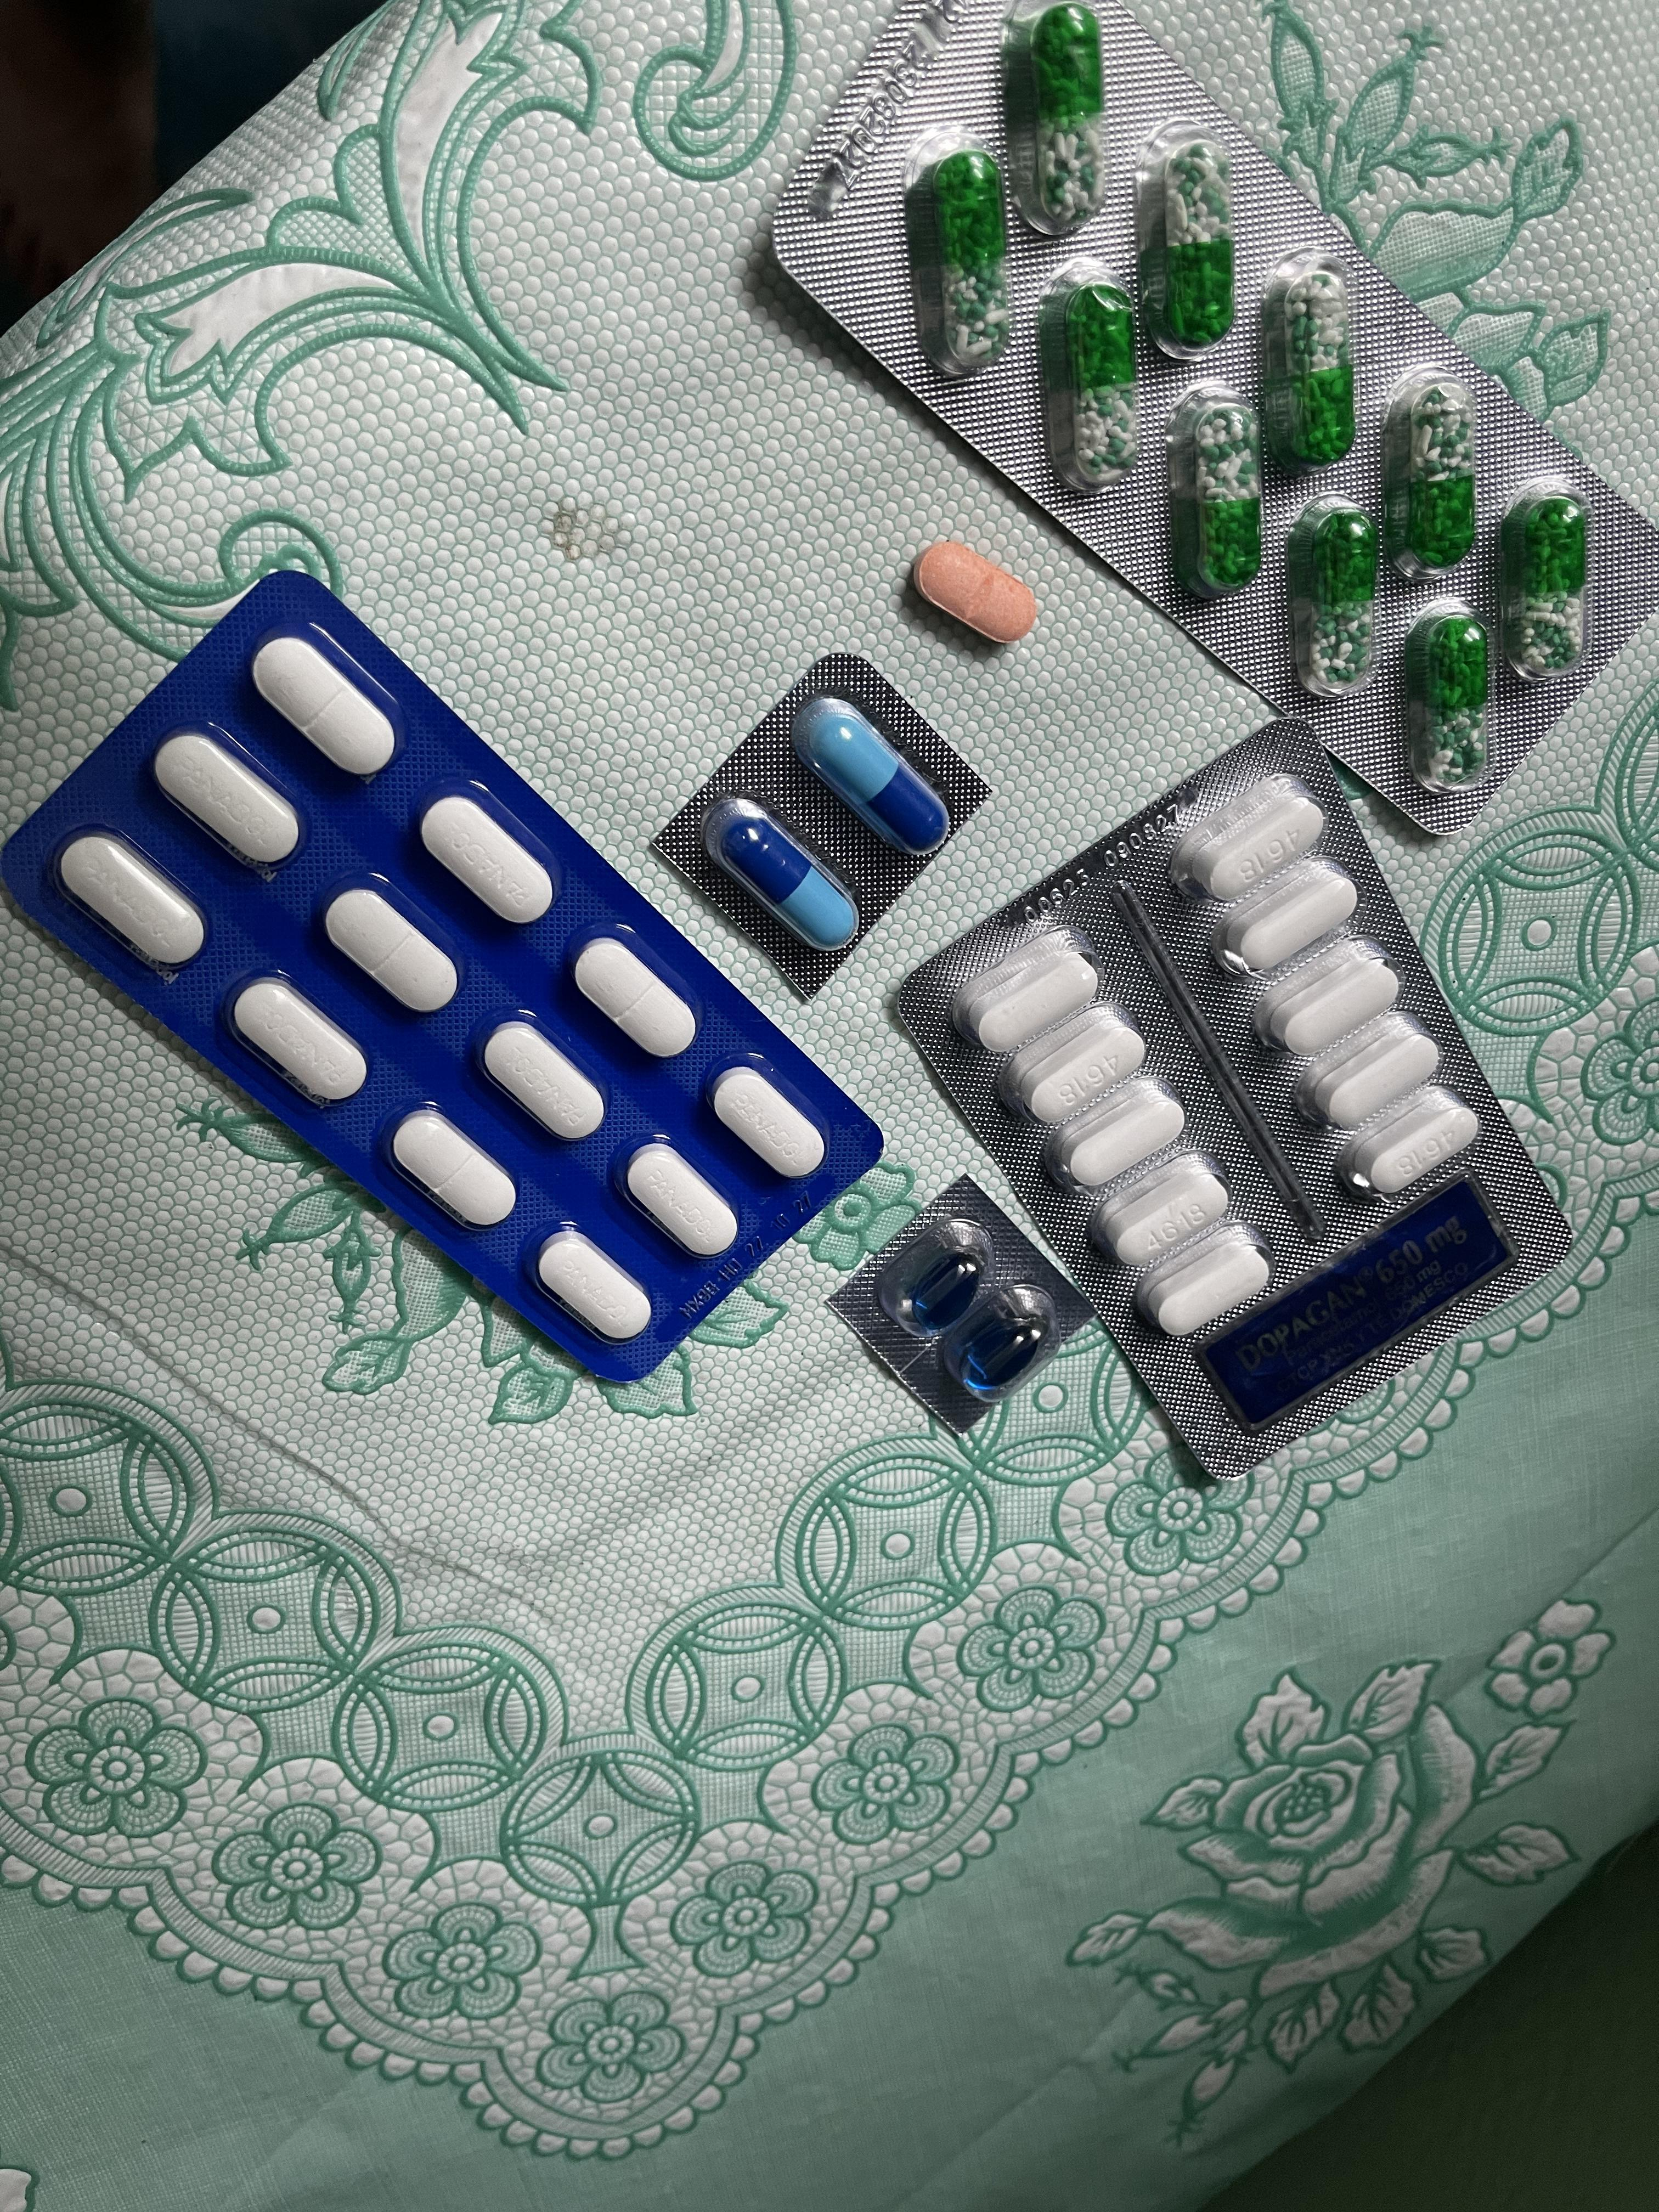Lincomyxin_500mg: (958, 1310, 1044, 1395), (904, 1249, 986, 1331)
Loratadine_10mg: (915, 542, 1037, 644)
Paracetamol_350mg: (56, 831, 207, 975), (254, 634, 401, 779), (153, 730, 303, 871), (227, 977, 369, 1111), (420, 791, 559, 925), (322, 883, 460, 1014), (565, 930, 697, 1057), (479, 1019, 610, 1143), (387, 1108, 516, 1230), (708, 1062, 831, 1184), (622, 1139, 742, 1258), (535, 1228, 655, 1345)
Paracetamol_500mg: (1171, 780, 1324, 902), (957, 941, 1101, 1061), (1213, 862, 1359, 979), (1009, 1015, 1152, 1134), (1298, 1021, 1441, 1134), (1040, 1076, 1182, 1190), (1263, 951, 1405, 1064), (1340, 1085, 1480, 1198), (1096, 1157, 1236, 1268), (1140, 1235, 1269, 1339)
Paracetamol_650mg: (1042, 263, 1140, 493), (1004, 3, 1096, 235), (1166, 387, 1265, 601), (1286, 500, 1375, 697), (932, 155, 1009, 368), (1405, 606, 1492, 779), (1164, 138, 1236, 343), (1511, 502, 1588, 676), (1284, 273, 1354, 455), (1410, 387, 1476, 563)
pill: (802, 697, 953, 857), (699, 798, 849, 956)
